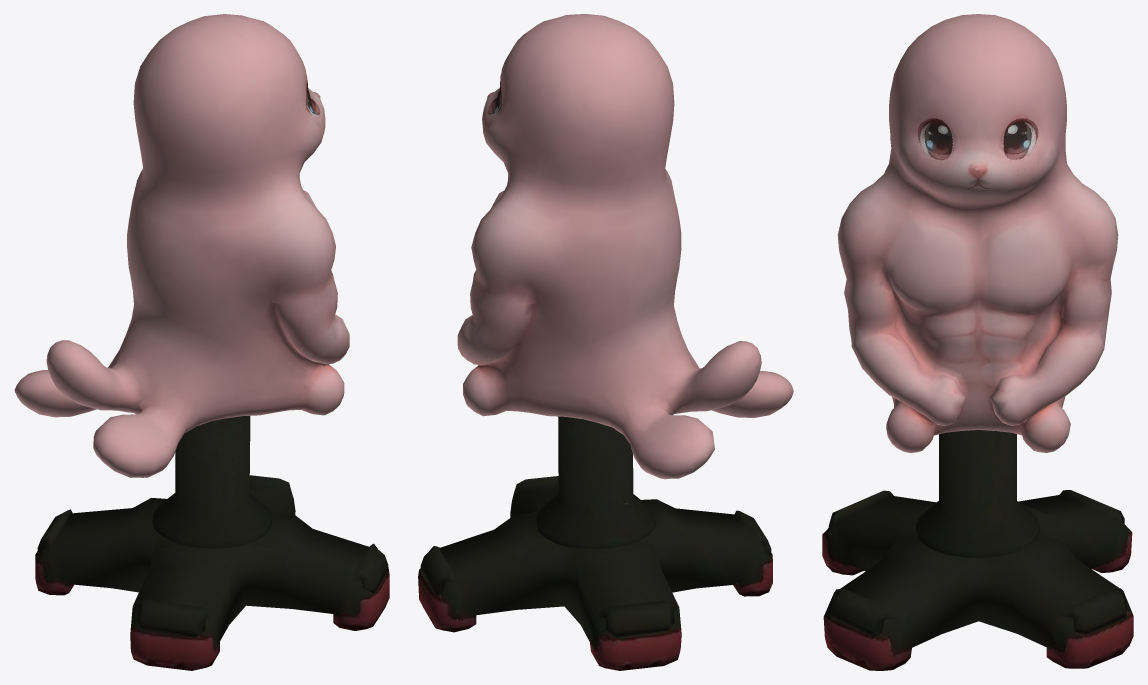
The picture shows the model from 3 angles, left to right: view 1: azimuth 30°, elevation 25°; view 2: azimuth 150°, elevation 25°; view 3: azimuth 270°, elevation 25°; orthographic projection. The views are drawn at different scales.
Parts seen in each view (by area): view 1: tripo_node_7bbb3519-cd2c-4634-bdaf-22b920137180; view 2: tripo_node_7bbb3519-cd2c-4634-bdaf-22b920137180; view 3: tripo_node_7bbb3519-cd2c-4634-bdaf-22b920137180.
Boxes of the visible parts, box(x1,y1,x2,y2) form: tripo_node_7bbb3519-cd2c-4634-bdaf-22b920137180: box(14, 14, 389, 670); tripo_node_7bbb3519-cd2c-4634-bdaf-22b920137180: box(418, 14, 793, 670); tripo_node_7bbb3519-cd2c-4634-bdaf-22b920137180: box(822, 14, 1133, 670).
Bounding box in the file's own units: 0.5293 × 0.998 × 0.4746.
1 material, 1 textured.
